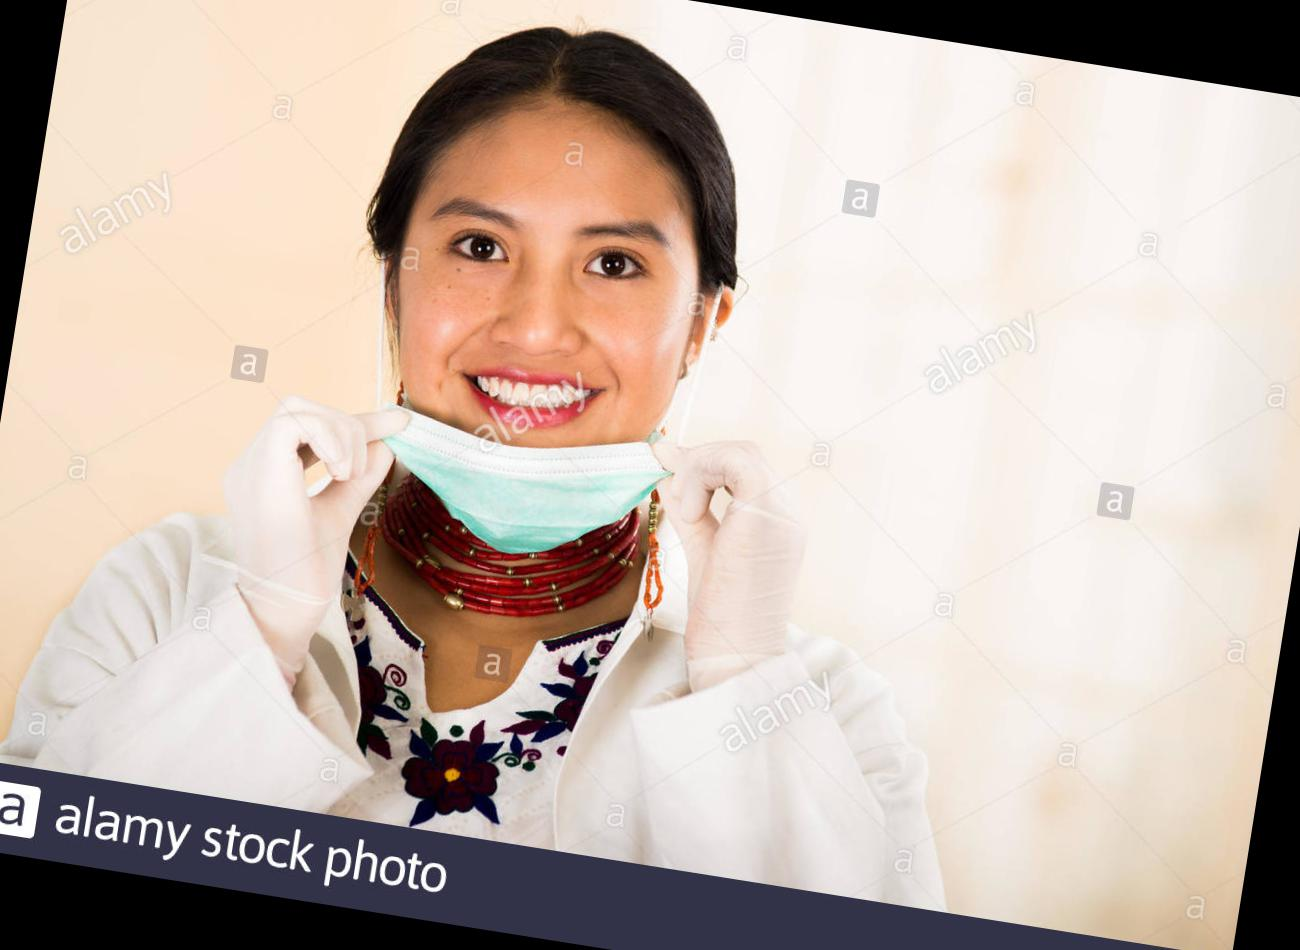mask_weared_incorrect: (380, 179, 698, 535)
